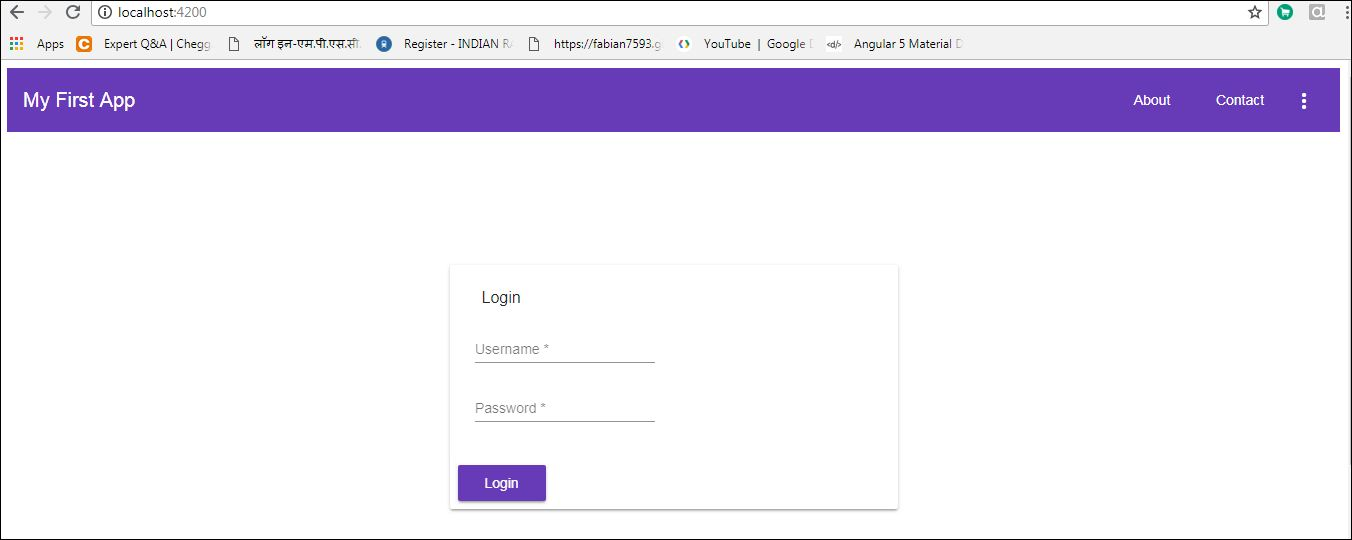button: (455, 460, 551, 505)
field_line: (469, 334, 657, 366), (469, 392, 657, 424)
